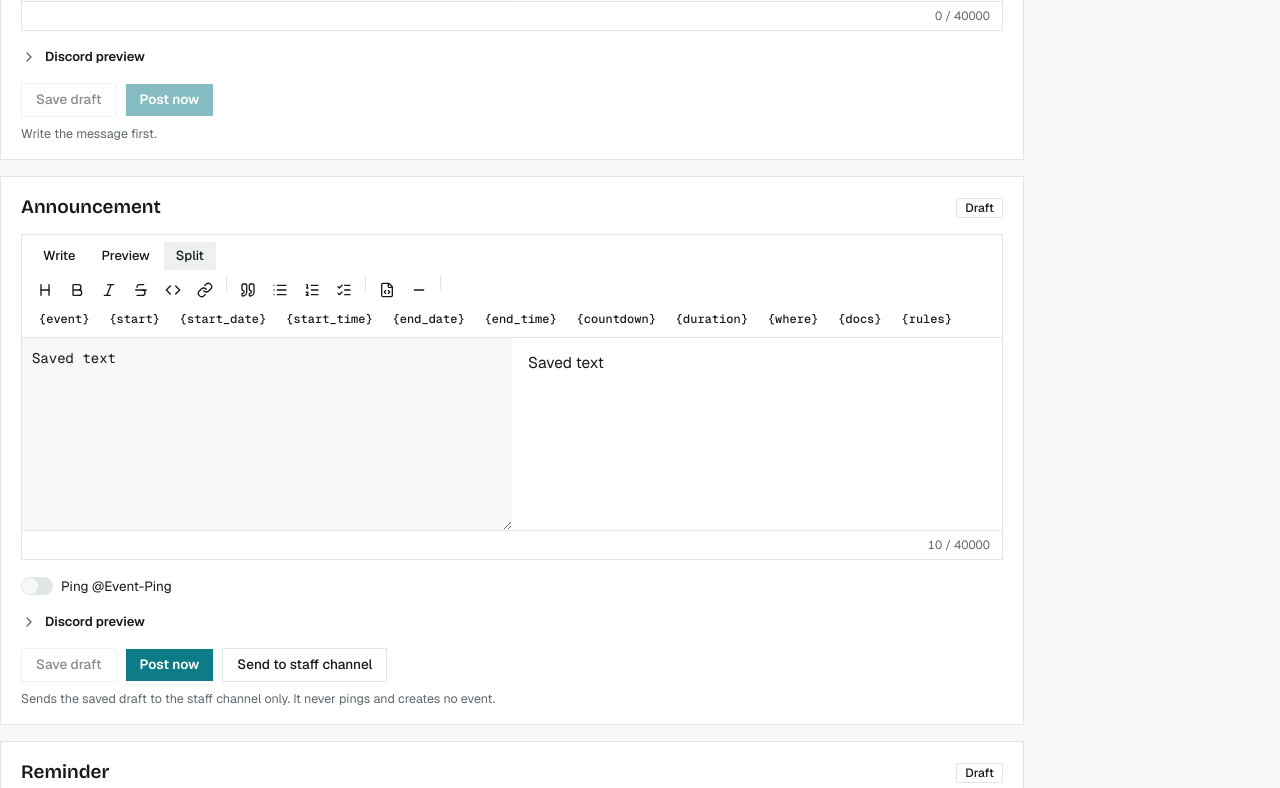
Scenario: MessagesTab › keeps what is typed when the list refetches, and takes the server text when clean
(page scrolled)
Replace the text in the text box next to "Saved text" with "Typing on". click: (267, 434)
box: top-left (22, 338), bottom-right (512, 530)
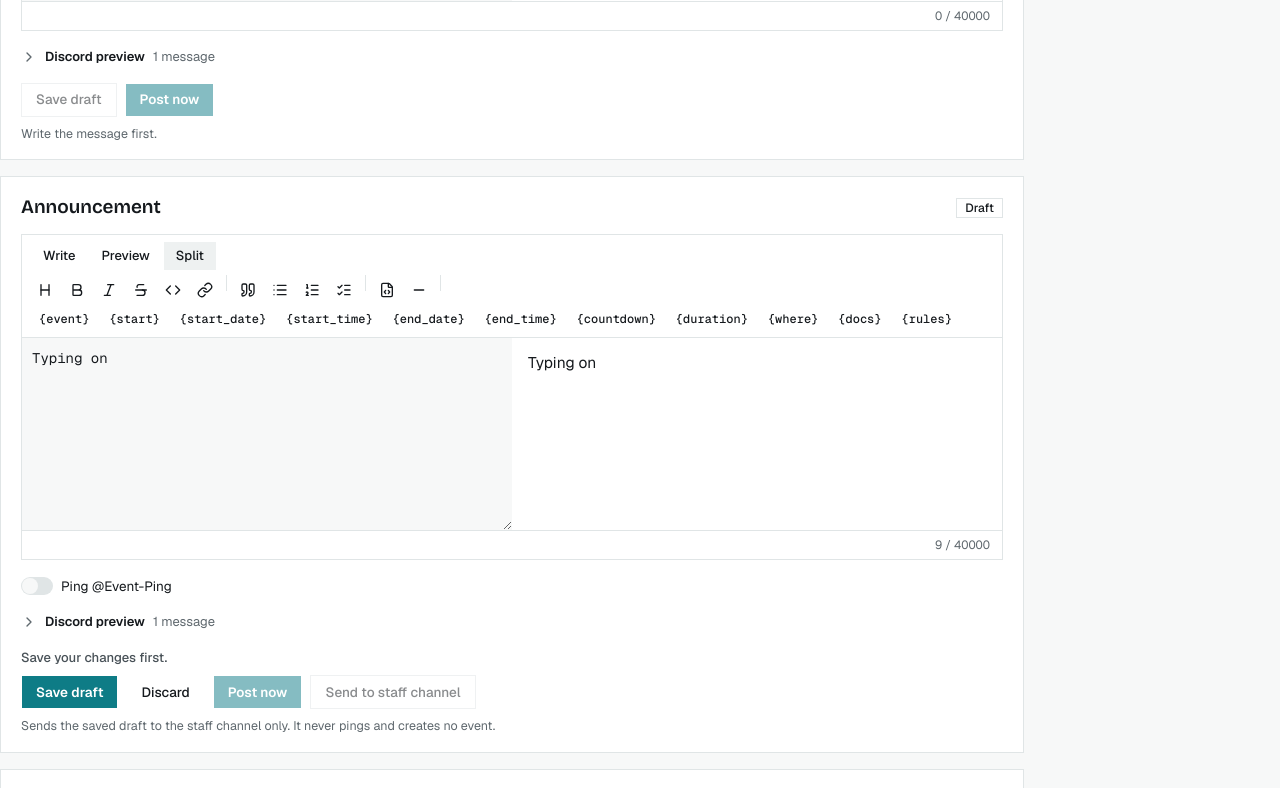
Replace the text in the text box next to "Typing on" with "Other". click: (267, 434)
box: top-left (22, 338), bottom-right (512, 530)
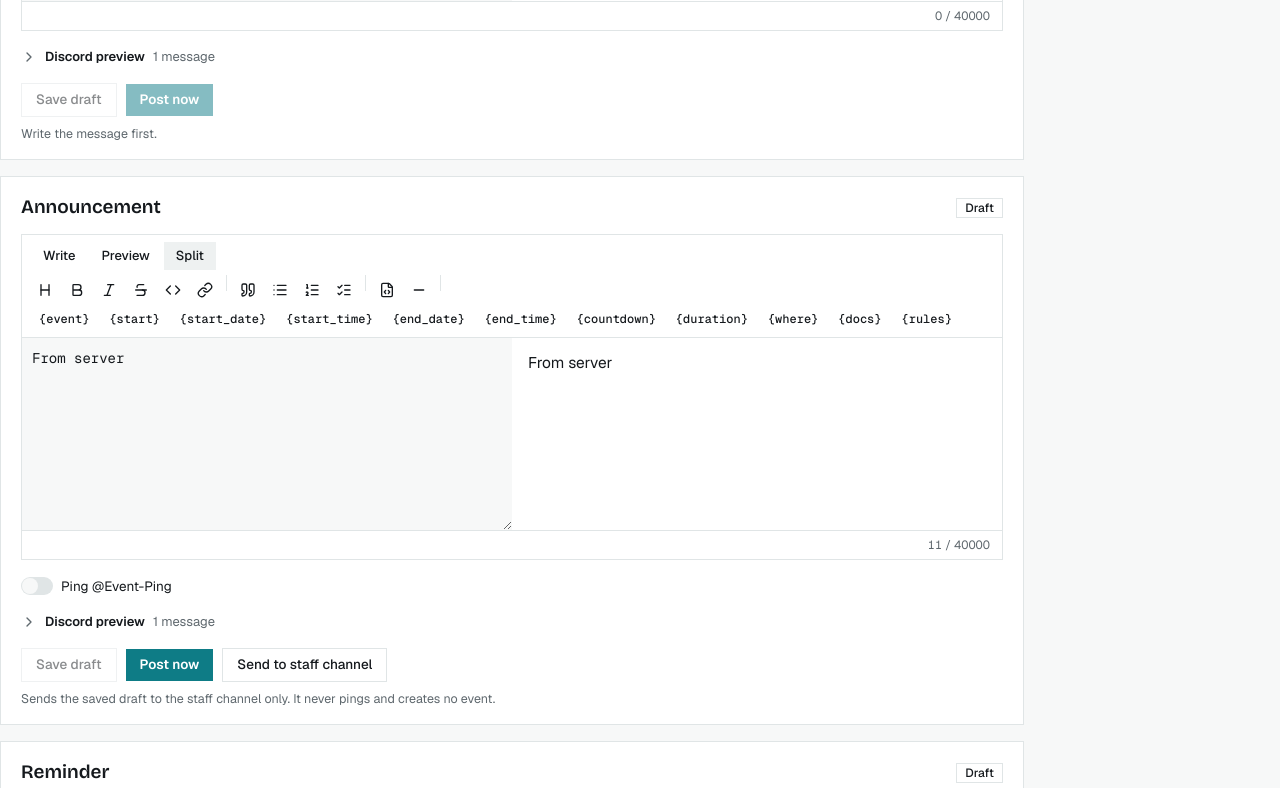
Expected: the text box next to "From server" holds "From server", top-left (22, 338), bottom-right (512, 530)
